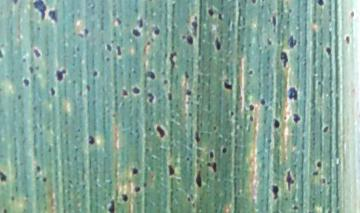tarspot: (283, 166, 296, 195), (32, 1, 47, 21), (284, 33, 300, 51), (154, 122, 169, 141), (53, 67, 69, 84), (276, 50, 291, 68), (285, 84, 299, 102), (47, 7, 61, 24), (193, 166, 204, 187), (322, 44, 336, 59), (144, 91, 158, 106), (270, 183, 281, 202), (291, 111, 304, 126), (86, 131, 98, 147), (206, 161, 219, 175), (106, 198, 118, 213), (142, 69, 157, 81), (190, 15, 201, 31), (213, 36, 223, 53), (131, 26, 143, 40), (222, 79, 234, 93), (166, 161, 175, 179), (168, 50, 177, 68), (184, 32, 194, 48), (129, 166, 141, 179), (271, 117, 282, 131), (205, 7, 217, 19), (83, 81, 94, 94), (271, 13, 279, 30), (32, 45, 41, 60), (164, 91, 175, 103), (320, 123, 331, 135), (131, 84, 141, 97), (182, 87, 195, 97), (90, 68, 101, 79), (48, 85, 58, 97), (246, 101, 256, 113), (121, 86, 129, 101), (27, 63, 37, 75), (82, 26, 92, 38), (15, 91, 25, 103), (207, 148, 216, 161), (1, 169, 8, 185), (194, 130, 202, 144), (41, 173, 49, 187), (183, 69, 191, 83), (258, 97, 268, 108), (151, 26, 162, 36), (22, 76, 31, 88), (104, 42, 113, 54), (265, 37, 274, 49), (313, 1, 328, 8), (344, 34, 352, 47), (219, 145, 230, 154), (115, 44, 122, 58), (315, 158, 323, 170), (246, 67, 255, 77), (133, 184, 141, 195), (229, 108, 236, 120), (121, 193, 129, 203), (291, 203, 299, 213), (312, 169, 319, 179), (248, 1, 261, 6), (1, 205, 9, 213), (34, 164, 41, 173)
